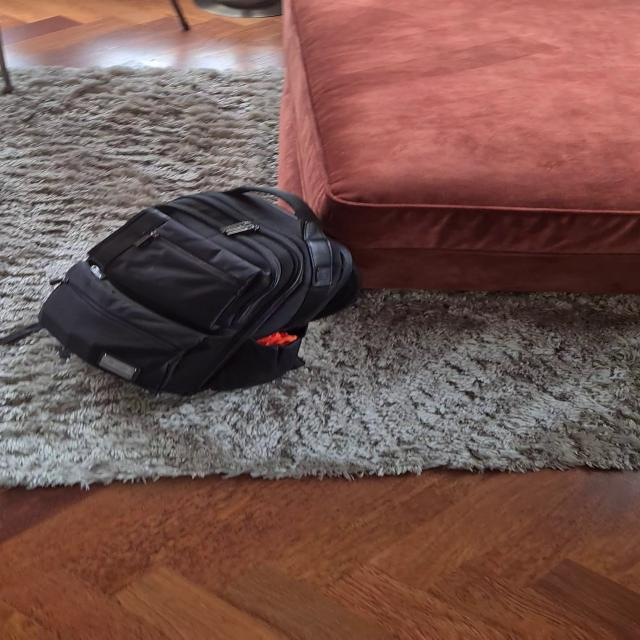backpack: (26, 178, 372, 400)
